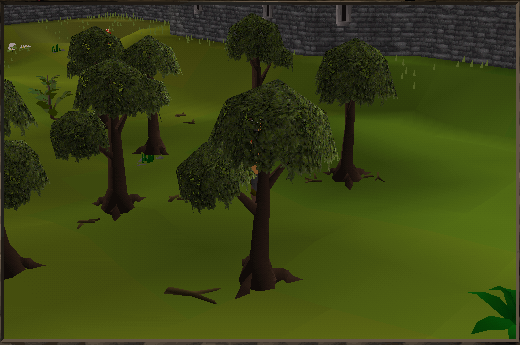Tree: (187, 78, 323, 287), (51, 73, 153, 223), (325, 33, 383, 184), (2, 80, 34, 275), (130, 36, 176, 152), (230, 13, 287, 80)
